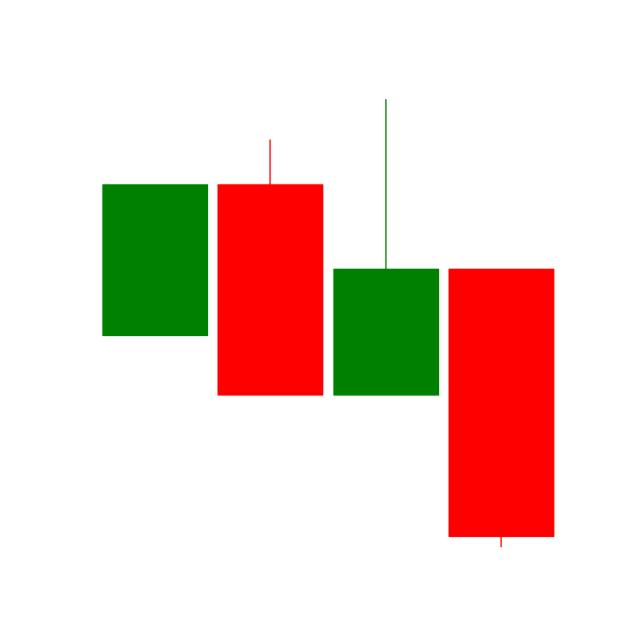Bearish Marubozu: (443, 265, 559, 550)
Bullish Marubozu: (100, 181, 211, 338)
